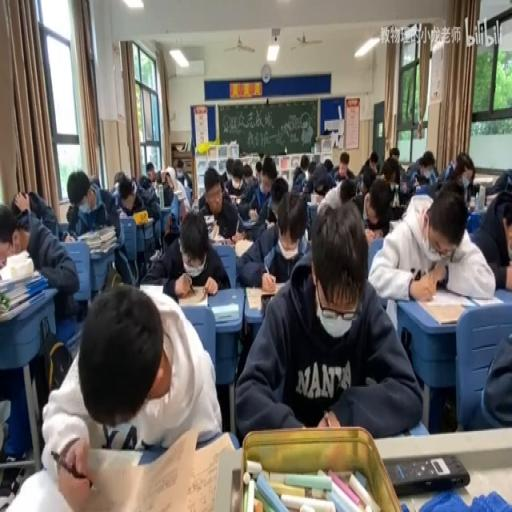calculator: (2, 468, 75, 510), (418, 299, 466, 324), (94, 446, 142, 468), (177, 283, 208, 306), (466, 290, 504, 307), (210, 302, 238, 322), (139, 282, 168, 298), (233, 236, 254, 256), (306, 200, 320, 228), (238, 214, 260, 228), (134, 213, 154, 226), (209, 222, 219, 242), (310, 192, 324, 205), (202, 213, 214, 225), (148, 248, 160, 260), (118, 208, 130, 219), (227, 195, 240, 205)
paper: (42, 277, 220, 508), (366, 186, 496, 303), (2, 196, 80, 329), (144, 206, 227, 297), (235, 188, 308, 288), (464, 317, 510, 431), (63, 168, 120, 249), (116, 170, 160, 244), (406, 149, 436, 188), (222, 155, 247, 196), (482, 166, 510, 202), (449, 150, 474, 188), (334, 150, 356, 180), (291, 154, 309, 189), (358, 151, 379, 179), (174, 159, 192, 191), (339, 176, 358, 205), (269, 176, 288, 205), (158, 170, 174, 204), (381, 158, 400, 186), (261, 158, 277, 186), (11, 194, 27, 218), (145, 160, 157, 184), (113, 171, 125, 189), (444, 159, 455, 178), (179, 198, 189, 218), (66, 204, 75, 224), (59, 230, 76, 240), (254, 161, 262, 182), (389, 145, 399, 161), (89, 174, 100, 188), (242, 164, 251, 180), (322, 156, 332, 170), (308, 161, 316, 176), (154, 169, 161, 182), (131, 180, 137, 194)
person: (384, 452, 468, 494), (259, 293, 273, 314)
